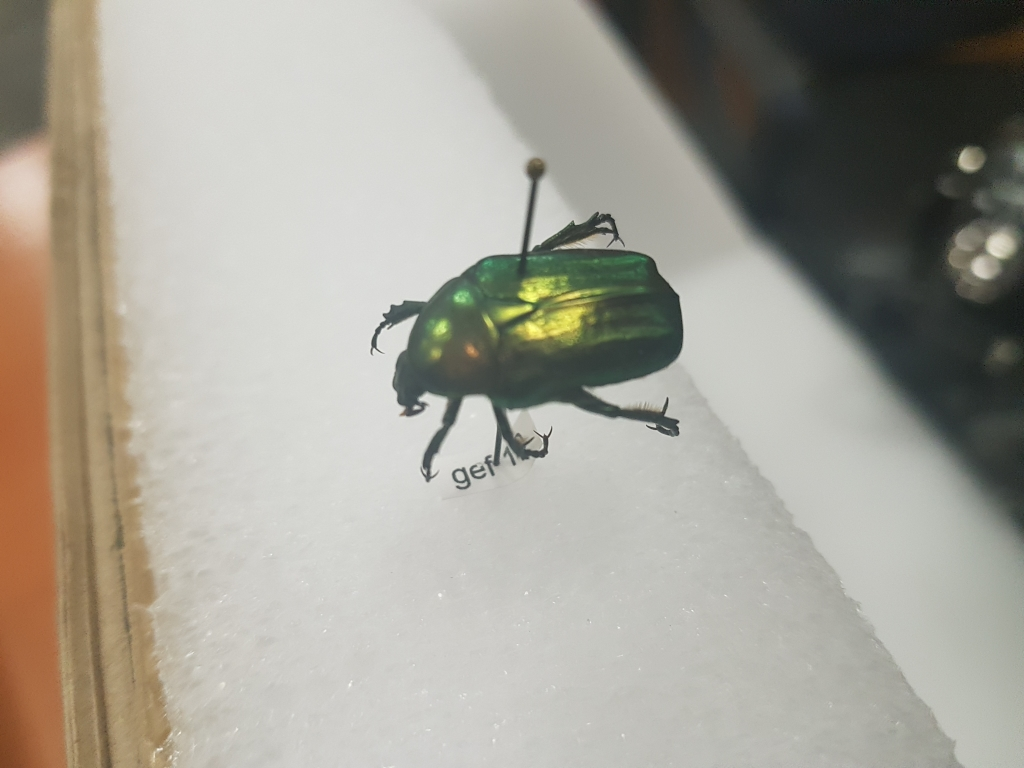Cetonia_aurata: (347, 204, 694, 491)
